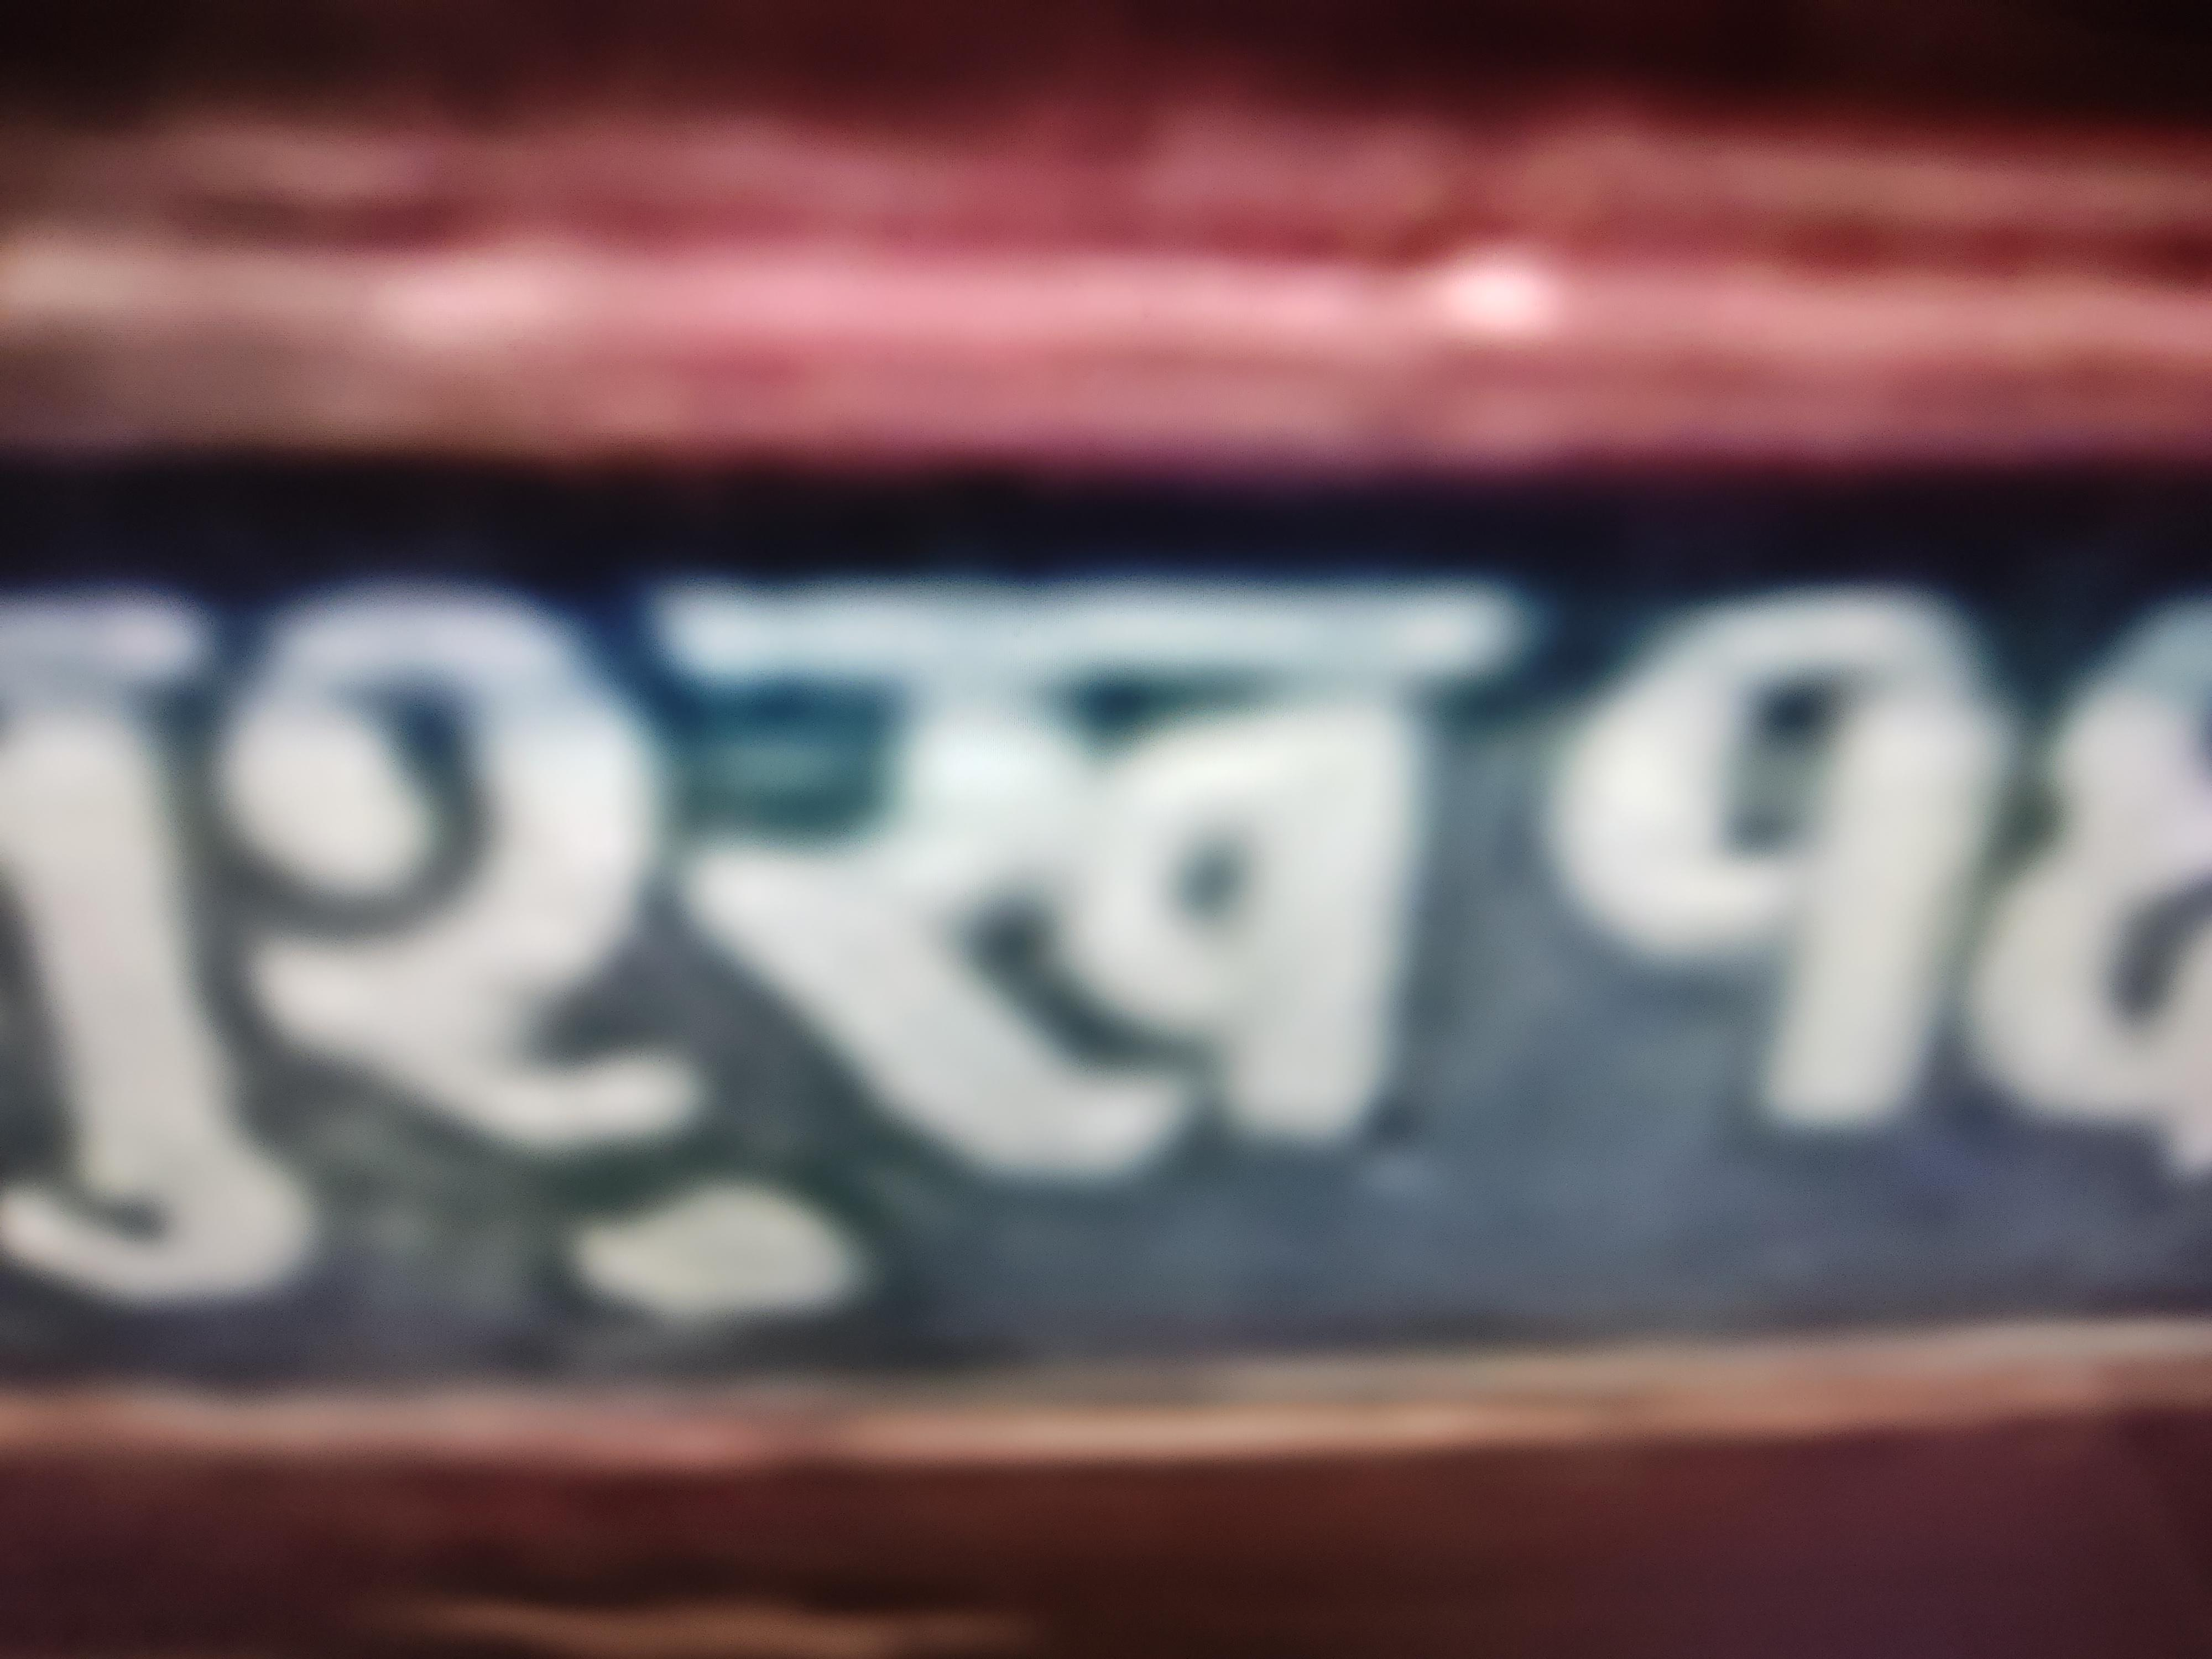1: (1521, 509, 2007, 1227)
kha: (645, 551, 1515, 1271)
